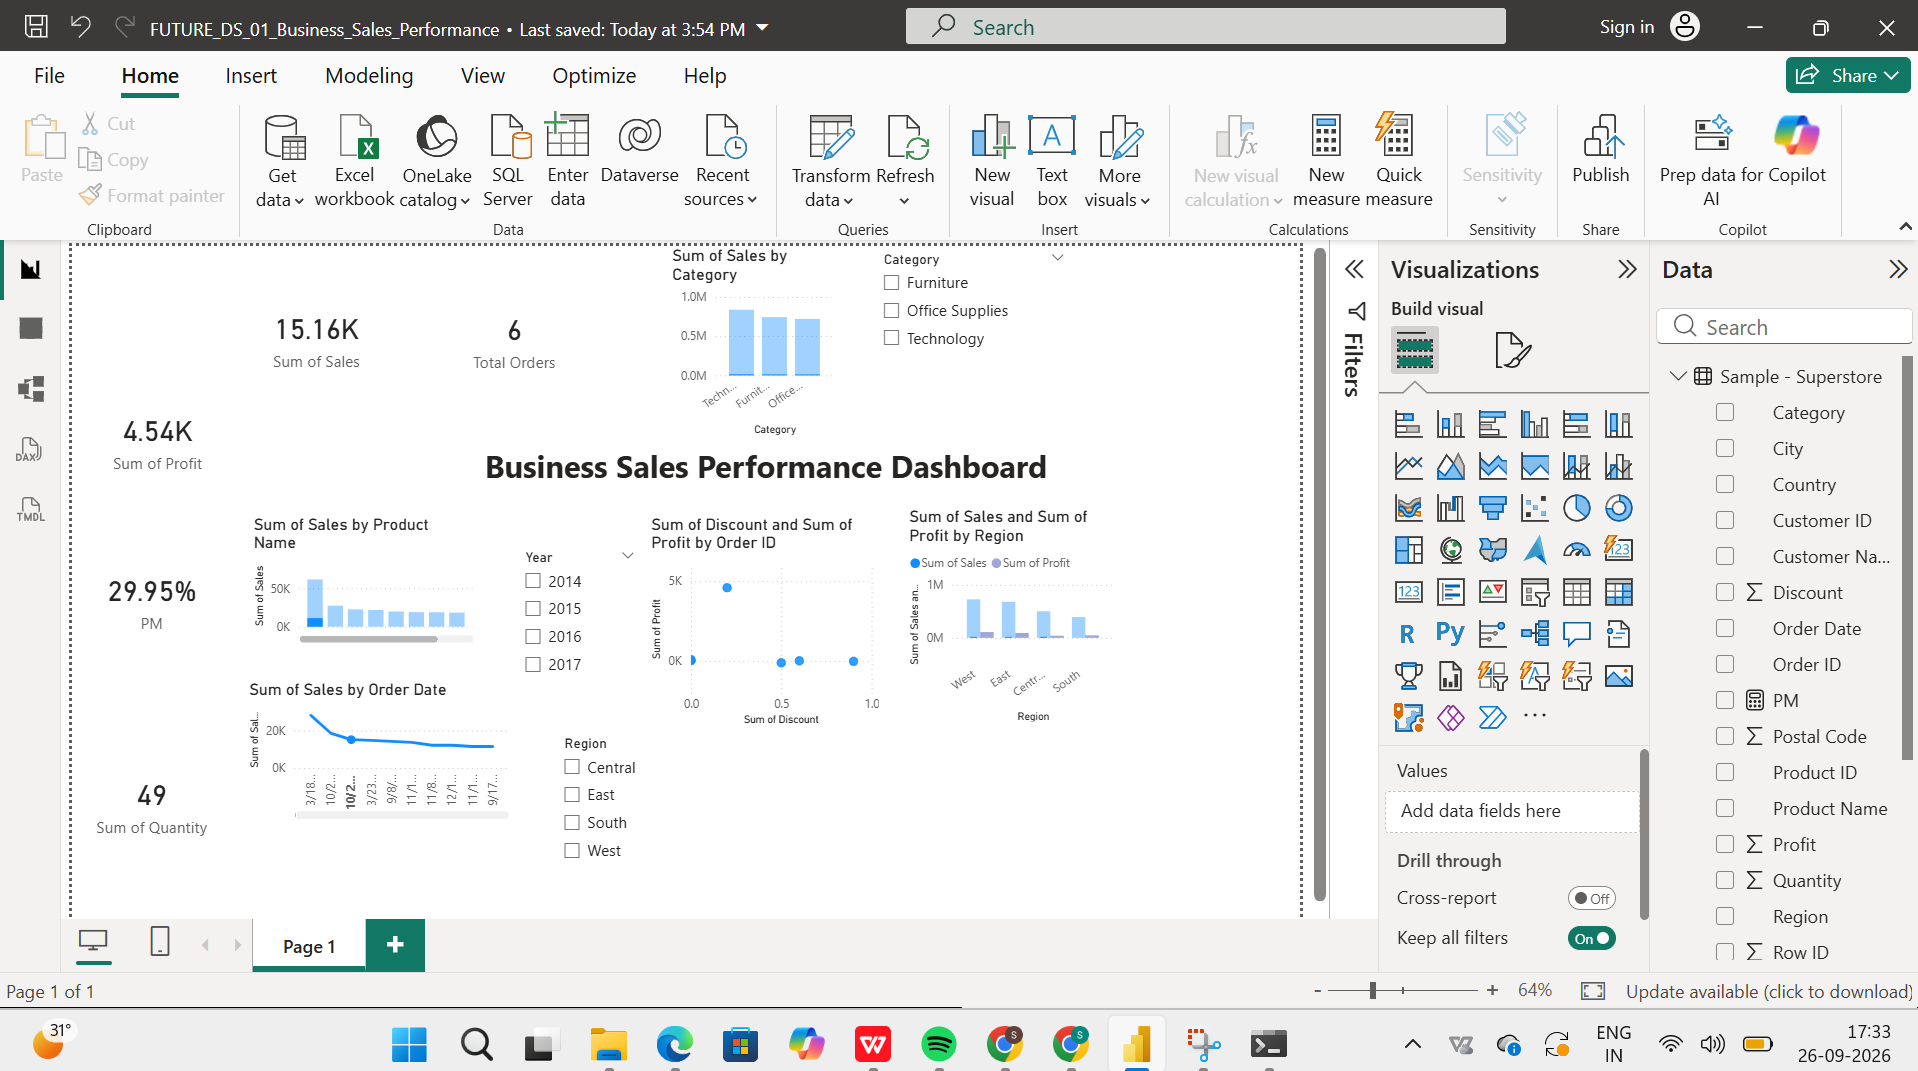

What the dashboard file says about the page in this screenshot:
{"tool":"powerbi","page":{"name":"Page 1","canvas":[1280,720],"ordinal":0},"visuals":[{"type":"card","fields":{"Values":["Sum(Sample - Superstore.Sales)"]},"box":[184.3,0,140,190],"z":0},{"type":"card","fields":{"Values":["Sum(Sample - Superstore.Profit)"]},"box":[12.9,112.9,152.9,178.6],"z":1000},{"type":"card","fields":{"Values":["Sample - Superstore.PM"]},"box":[0,311.4,165.7,114.3],"z":2000},{"type":"card","fields":{"Values":["Sample - Superstore.Total Orders"]},"box":[371.4,7.1,177.1,177.1],"z":3000},{"type":"card","fields":{"Values":["Sum(Sample - Superstore.Quantity)"]},"box":[0,470,165.7,220],"z":4000},{"type":"lineChart","fields":{"Category":["Sample - Superstore.Order Date"],"Y":["Sum(Sample - Superstore.Sales)"]},"box":[180,451.4,280,150],"z":5000},{"type":"clusteredColumnChart","fields":{"Category":["Sample - Superstore.Category"],"Y":["Sum(Sample - Superstore.Sales)"]},"box":[620,0,178.6,201.4],"z":6000},{"type":"clusteredColumnChart","fields":{"Category":["Sample - Superstore.Region"],"Y":["Sum(Sample - Superstore.Sales)","Sum(Sample - Superstore.Profit)"]},"box":[867.1,271.4,222.9,228.6],"z":7000},{"type":"clusteredColumnChart","fields":{"Category":["Sample - Superstore.Product Name"],"Y":["Sum(Sample - Superstore.Sales)"]},"box":[184.3,280,238.6,138.6],"z":8000},{"type":"scatterChart","fields":{"X":["Sum(Sample - Superstore.Discount)"],"Y":["Sum(Sample - Superstore.Profit)"],"Category":["Sample - Superstore.Order ID"]},"box":[598.6,280,247.1,224.3],"z":8001},{"type":"slicer","fields":{"Values":["Sample - Superstore.Year"]},"box":[460,311.4,138.6,155.7],"z":8002},{"type":"slicer","fields":{"Values":["Sample - Superstore.Region"]},"box":[500,504.3,280,150],"z":8003},{"type":"slicer","fields":{"Values":["Sample - Superstore.Category"]},"box":[832.9,0,212.9,202.9],"z":8004},{"type":"textbox","box":[165.7,201.4,1114.3,68.6],"z":8005}]}

Visuals, with their boxes on the page's 1280x720 design canvas (x1, y1, x2, y2). These are canvas units, not pixel positions in the 1918x1071 screenshot, which may show the page scaled, cropped or inside an application window:
card - Sum(Sample - Superstore.Sales): box(184, 0, 324, 190)
card - Sum(Sample - Superstore.Profit): box(13, 113, 166, 292)
card - Sample - Superstore.PM: box(0, 311, 166, 426)
card - Sample - Superstore.Total Orders: box(371, 7, 548, 184)
card - Sum(Sample - Superstore.Quantity): box(0, 470, 166, 690)
lineChart - Sample - Superstore.Order Date x Sum(Sample - Superstore.Sales): box(180, 451, 460, 601)
clusteredColumnChart - Sample - Superstore.Category x Sum(Sample - Superstore.Sales): box(620, 0, 799, 201)
clusteredColumnChart - Sample - Superstore.Region x Sum(Sample - Superstore.Sales): box(867, 271, 1090, 500)
clusteredColumnChart - Sample - Superstore.Product Name x Sum(Sample - Superstore.Sales): box(184, 280, 423, 419)
scatterChart - Sum(Sample - Superstore.Discount) x Sum(Sample - Superstore.Profit): box(599, 280, 846, 504)
slicer - Sample - Superstore.Year: box(460, 311, 599, 467)
slicer - Sample - Superstore.Region: box(500, 504, 780, 654)
slicer - Sample - Superstore.Category: box(833, 0, 1046, 203)
textbox: box(166, 201, 1280, 270)
